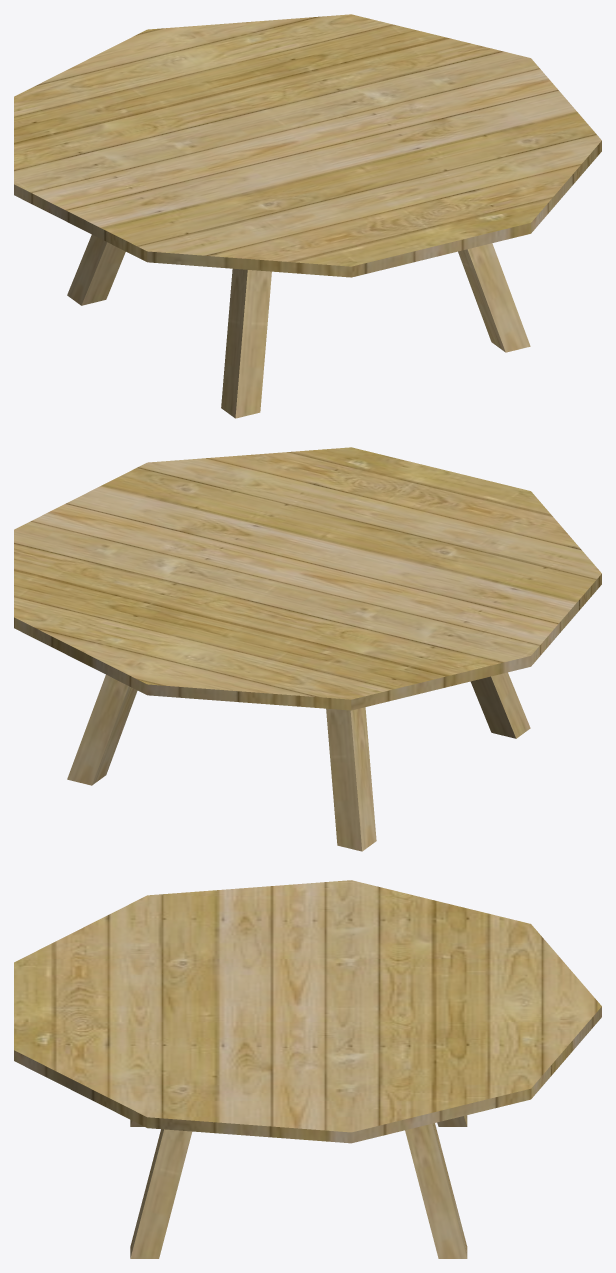
File: Table_17.glb
The picture shows the model from 3 angles, top to bottom: view 1: azimuth 30°, elevation 25°; view 2: azimuth 150°, elevation 25°; view 3: azimuth 270°, elevation 25°; orthographic projection.
Parts seen in each view (by area): view 1: Table_17; view 2: Table_17; view 3: Table_17.
Boxes of the visible parts, box(x1,y1,x2,y2) form: Table_17: box(14, 14, 601, 418); Table_17: box(14, 447, 601, 851); Table_17: box(14, 880, 601, 1258).
Bounding box in the file's own units: 2.25 × 0.7506 × 2.22.
Materials: 1 (1 with a texture image).
